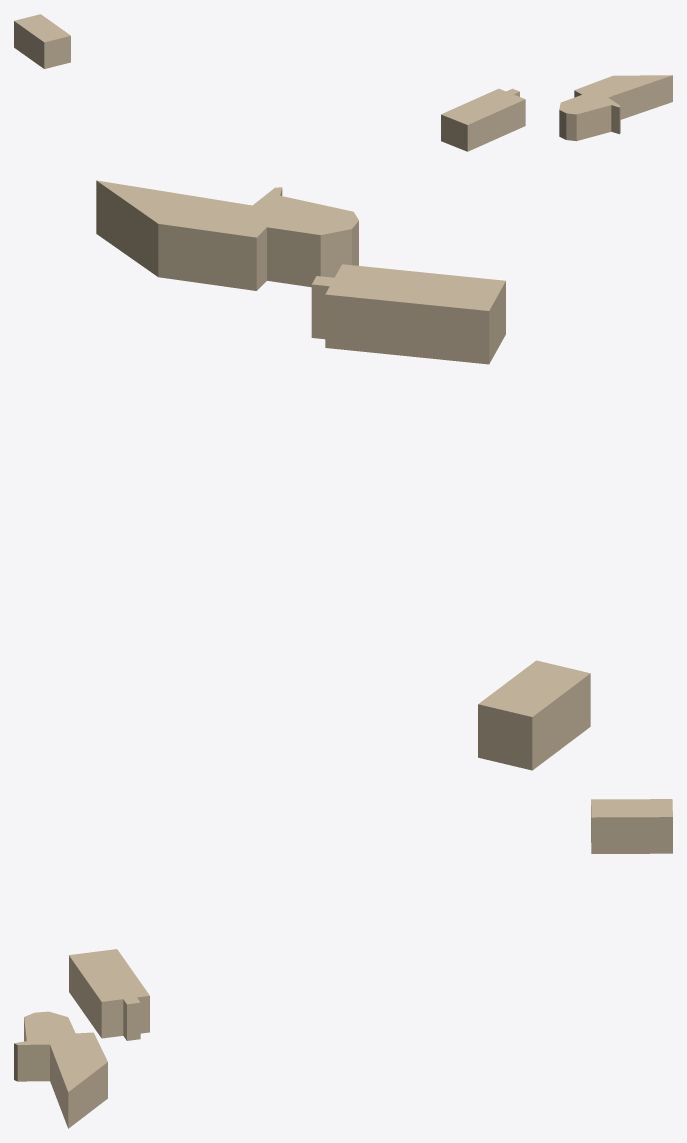
Rendered from 17_3-estimated-coarse.glb.
3 views of the same model, one above another, from view 1: azimuth 30°, elevation 25°; view 2: azimuth 150°, elevation 25°; view 3: azimuth 270°, elevation 25° (orthographic). The views are drawn at different scales.
Size of the model in its own units: 206 by 12 by 196.
